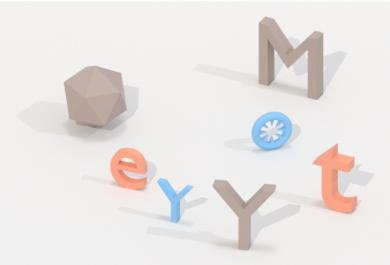0-TronCanh: (60, 61, 133, 132)
0-TronLo: (247, 109, 296, 155)
M: (254, 13, 329, 105)
Y: (208, 175, 279, 257), (153, 174, 197, 227)
e: (105, 144, 152, 194)
t: (308, 140, 362, 217)
